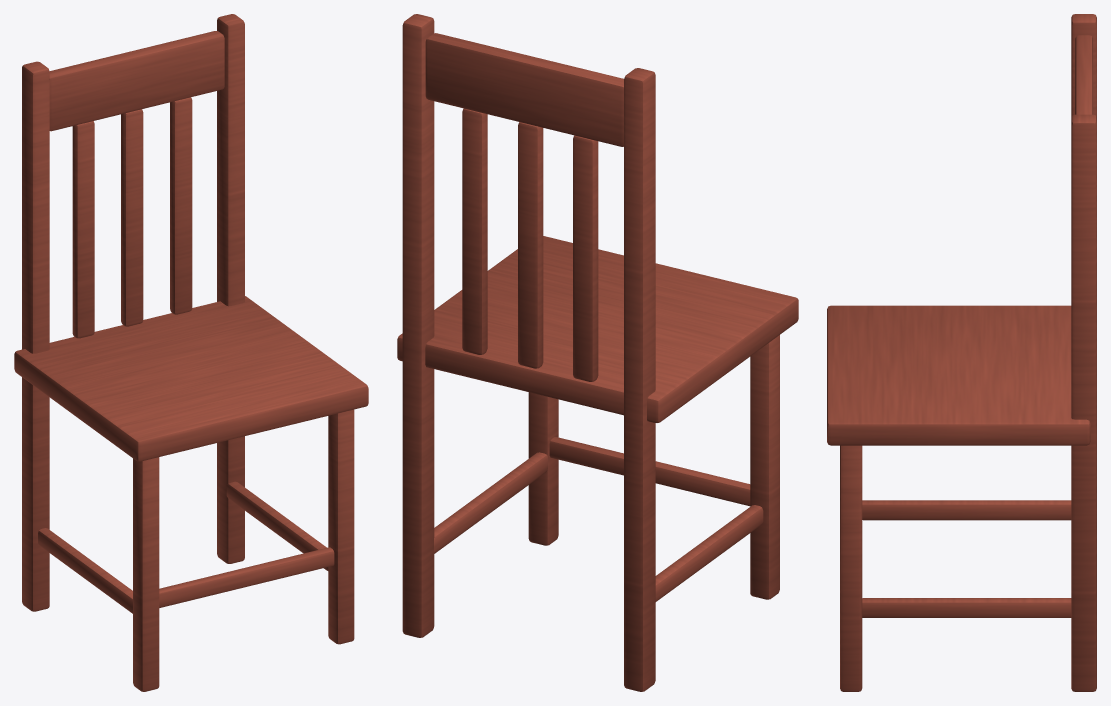
Rendered from SM_Chair_Brick.fbx.
3 views of the same model, side by side, from view 1: azimuth 30°, elevation 25°; view 2: azimuth 150°, elevation 25°; view 3: azimuth 270°, elevation 25° (orthographic). The views are drawn at different scales.
Parts seen in each view (by area): view 1: SM_Chair_Brick; view 2: SM_Chair_Brick; view 3: SM_Chair_Brick.
Boxes of the visible parts, bbox=[...] form: SM_Chair_Brick: bbox=[14, 14, 368, 691]; SM_Chair_Brick: bbox=[397, 14, 798, 691]; SM_Chair_Brick: bbox=[827, 14, 1096, 691].
Size of what is drawn, in the model's own units: 0.44 by 0.98 by 0.42.
Materials: 1 (1 with a texture image).
